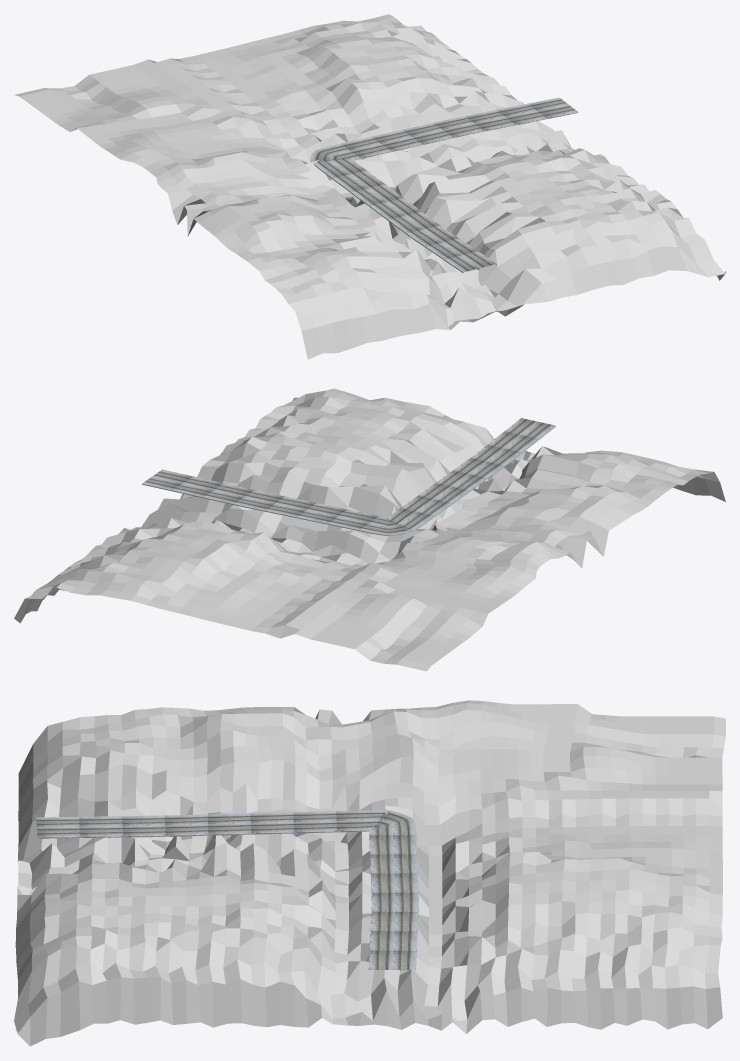
File: scene_1_road4.fbx
The picture shows the model from 3 angles, top to bottom: view 1: azimuth 30°, elevation 25°; view 2: azimuth 150°, elevation 25°; view 3: azimuth 270°, elevation 25°; orthographic projection. The views are drawn at different scales.
Visible parts, largest first — view 1: Plane.003, road_8x_10y_03z.006; view 2: Plane.003, road_8x_10y_03z.006; view 3: Plane.003, road_8x_10y_03z.006.
Part boxes in pixels (box(x1,y1,x2,y2)): Plane.003: box(15, 14, 725, 359); road_8x_10y_03z.006: box(310, 97, 578, 272); Plane.003: box(14, 388, 725, 671); road_8x_10y_03z.006: box(142, 418, 555, 535); Plane.003: box(14, 700, 725, 1046); road_8x_10y_03z.006: box(36, 810, 418, 970).
Size of the model in its own units: 13465 by 2890 by 16618.
